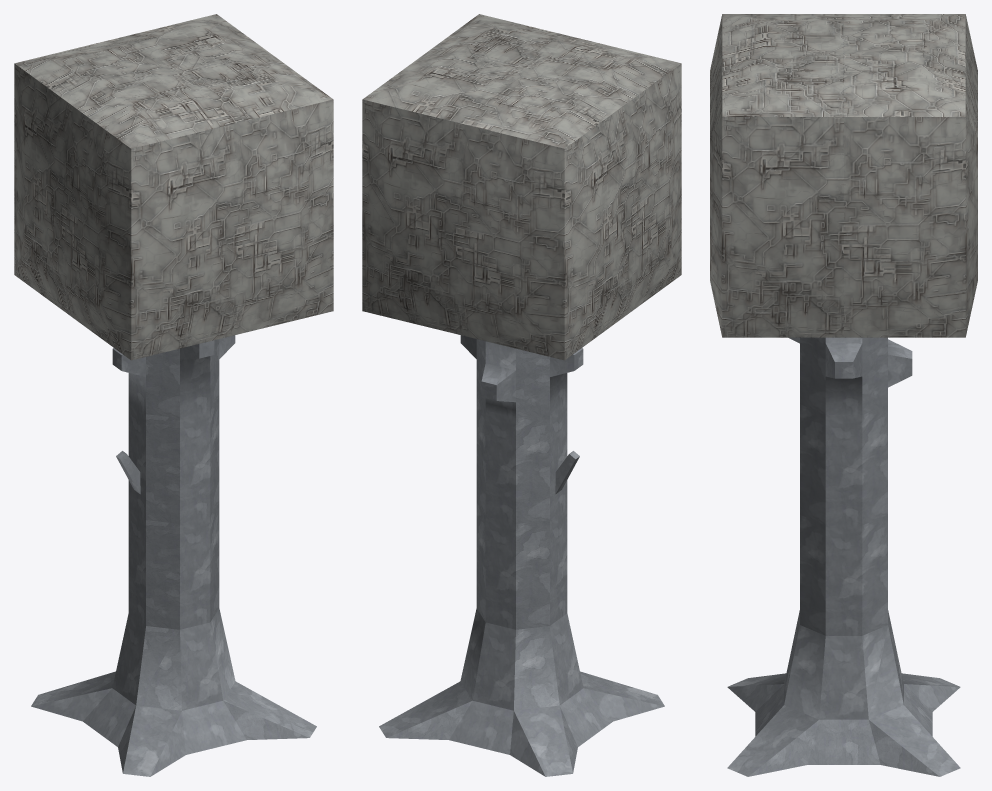
File: Techno Tree.fbx
3 renders of one model, left to right at view 1: azimuth 30°, elevation 25°; view 2: azimuth 150°, elevation 25°; view 3: azimuth 270°, elevation 25°, orthographic. The views are drawn at different scales.
Visible parts, largest first — view 1: mergedBlocks; view 2: mergedBlocks; view 3: mergedBlocks.
Boxes of the visible parts, bbox=[...] form: mergedBlocks: bbox=[14, 14, 333, 776]; mergedBlocks: bbox=[362, 14, 681, 776]; mergedBlocks: bbox=[710, 14, 977, 776].
Size of the model in its own units: 11 by 30.5 by 11.
Materials: 2 (2 with a texture image).
